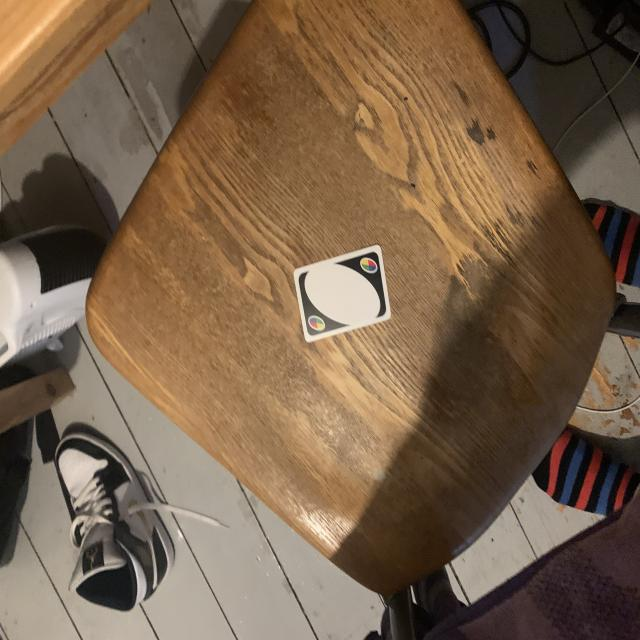lcolor-40: (356, 255, 378, 276)
